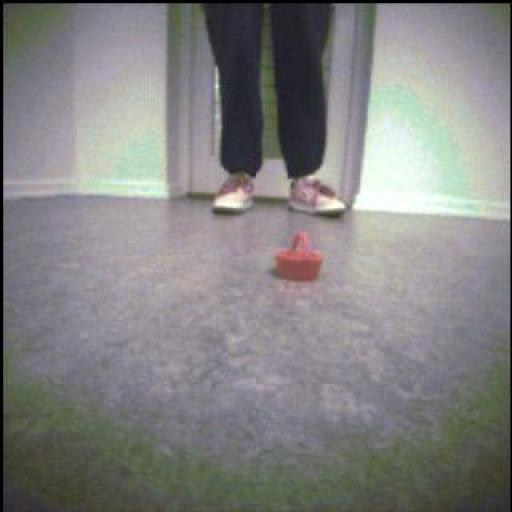Bucket: (276, 233, 324, 283)
